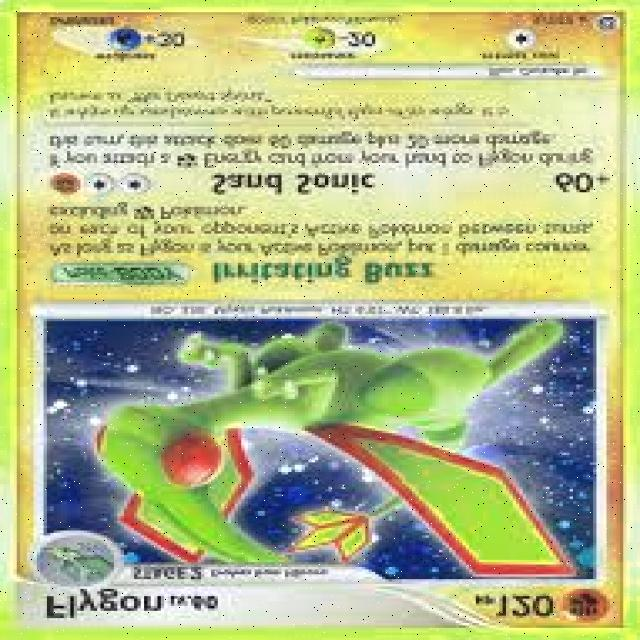flygon: (101, 323, 576, 569)
